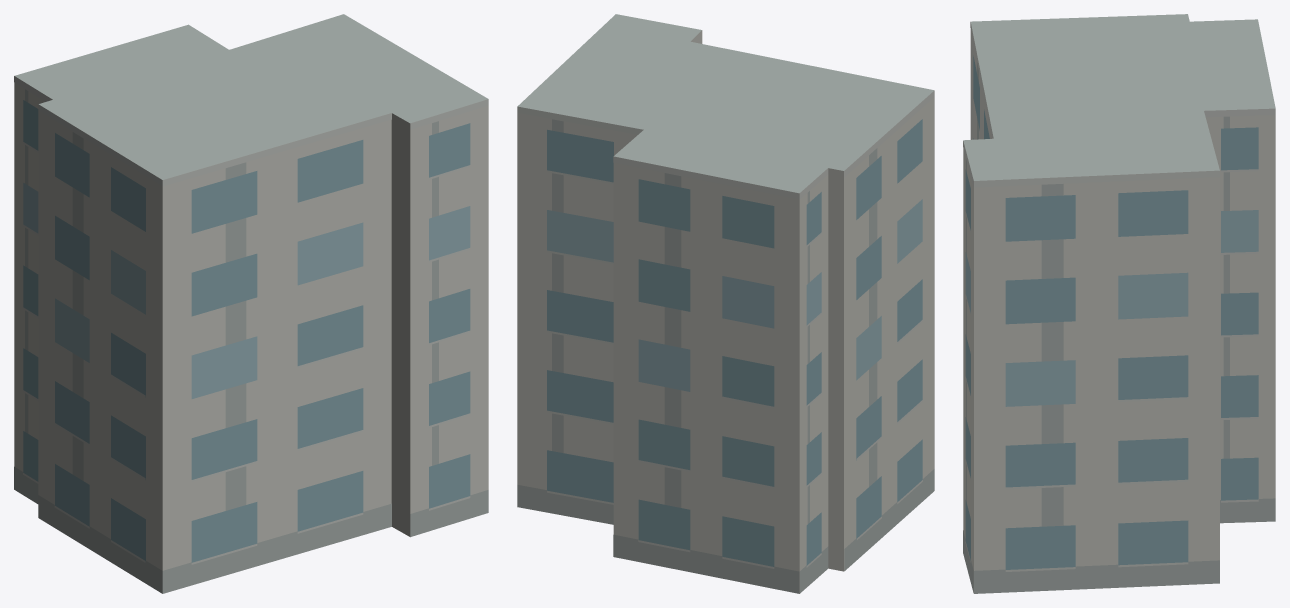
The model's file is survey-upis-32564694.glb.
3 renders of one model, left to right at view 1: azimuth 30°, elevation 25°; view 2: azimuth 150°, elevation 25°; view 3: azimuth 270°, elevation 25°, orthographic. The views are drawn at different scales.
Parts seen in each view (by area): view 1: survey-upis-32564694.tmp; view 2: survey-upis-32564694.tmp; view 3: survey-upis-32564694.tmp.
Part boxes in pixels (<box>): survey-upis-32564694.tmp: <box>14,14,488,593</box>; survey-upis-32564694.tmp: <box>517,14,934,593</box>; survey-upis-32564694.tmp: <box>963,14,1275,593</box>.
Bounding box in the file's own units: 13.24 × 15.25 × 10.48.
